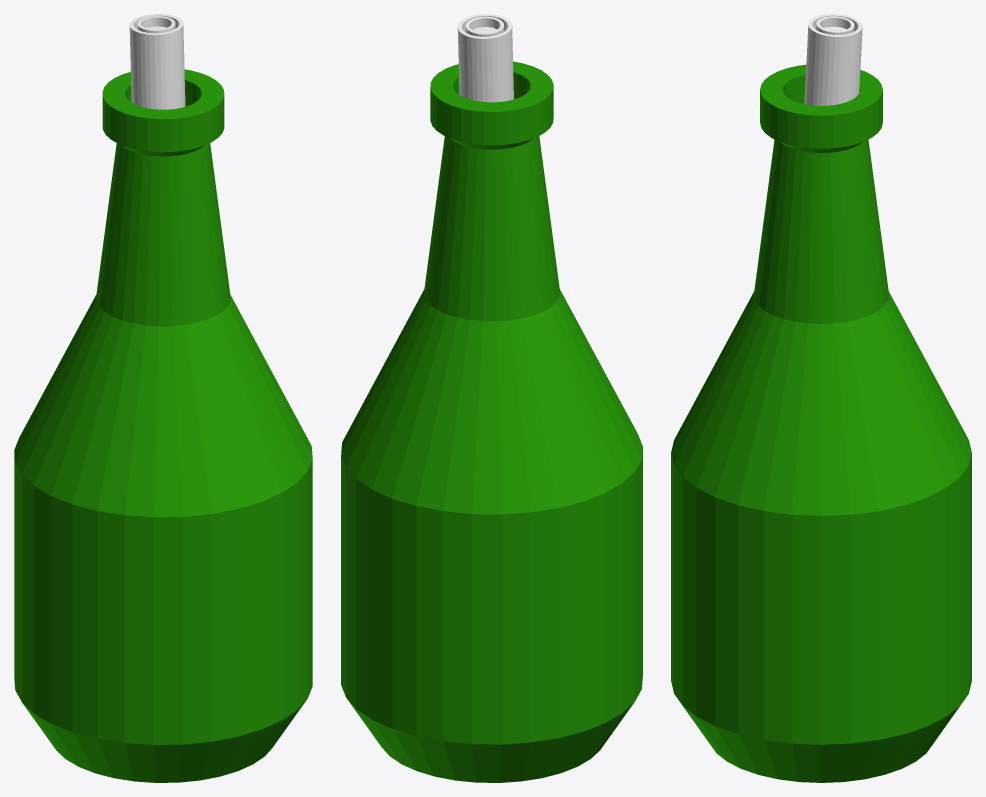
File: Bottle.fbx
3 views of the same model, side by side, from view 1: azimuth 30°, elevation 25°; view 2: azimuth 150°, elevation 25°; view 3: azimuth 270°, elevation 25° (orthographic).
Parts seen in each view (by area): view 1: Message in a bottle; view 2: Message in a bottle; view 3: Message in a bottle.
Boxes of the visible parts, left/top/right/bottom form: Message in a bottle: left=14, top=14, right=312, bottom=782; Message in a bottle: left=341, top=14, right=642, bottom=782; Message in a bottle: left=671, top=14, right=971, bottom=782.
Bounding box in the file's own units: 40 × 104 × 40.
